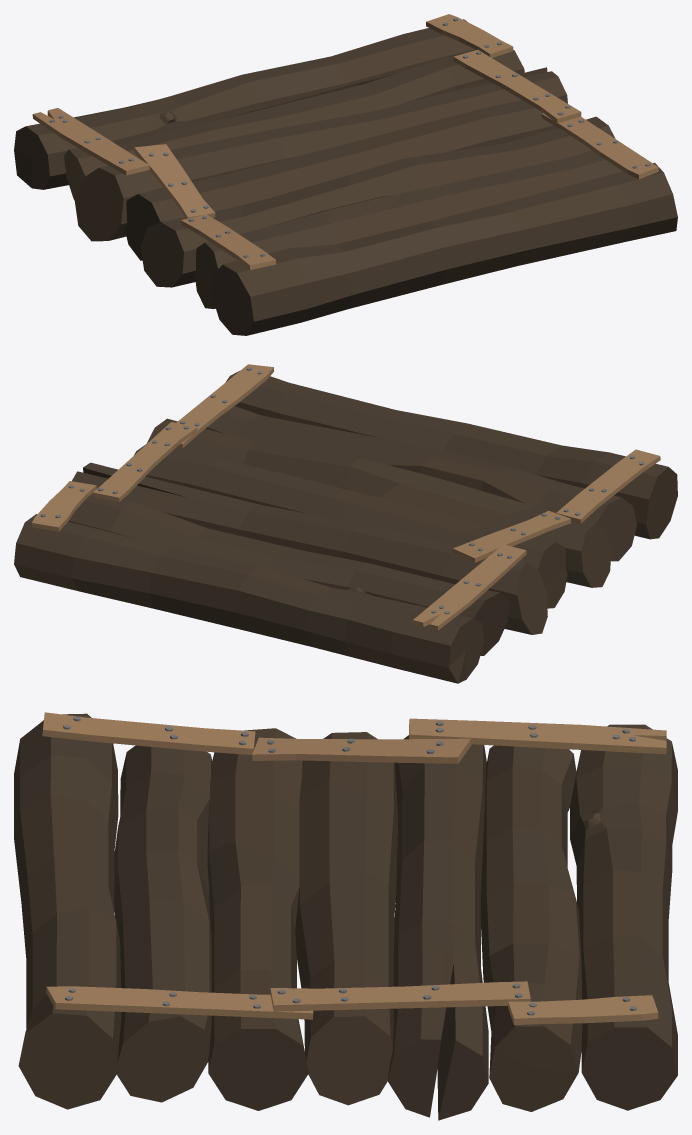
The model's file is RaftOld.fbx.
The picture shows the model from 3 angles, top to bottom: view 1: azimuth 30°, elevation 25°; view 2: azimuth 150°, elevation 25°; view 3: azimuth 270°, elevation 25°; orthographic projection. The views are drawn at different scales.
Visible parts, largest first — view 1: Raft; view 2: Raft; view 3: Raft.
Part boxes in pixels (x1,y1,x2,y2): Raft: (14,14,677,335); Raft: (14,364,677,683); Raft: (14,712,677,1120).
Size of the model in its own units: 221 by 35.37 by 195.
